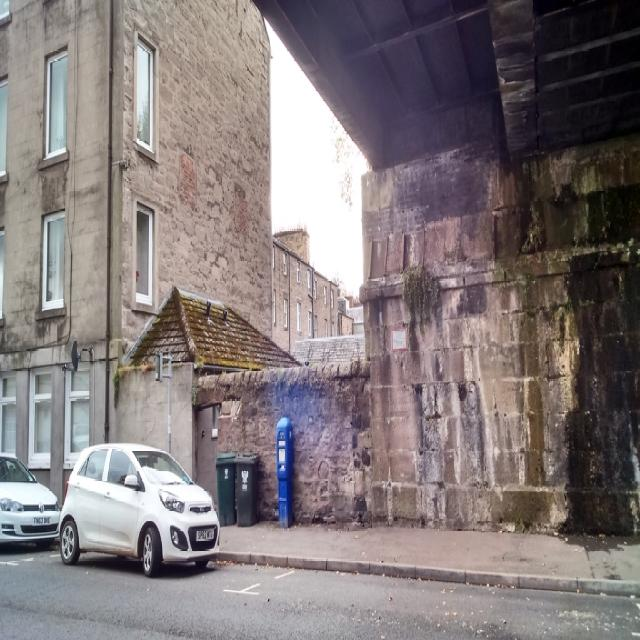car: (49, 442, 212, 571)
